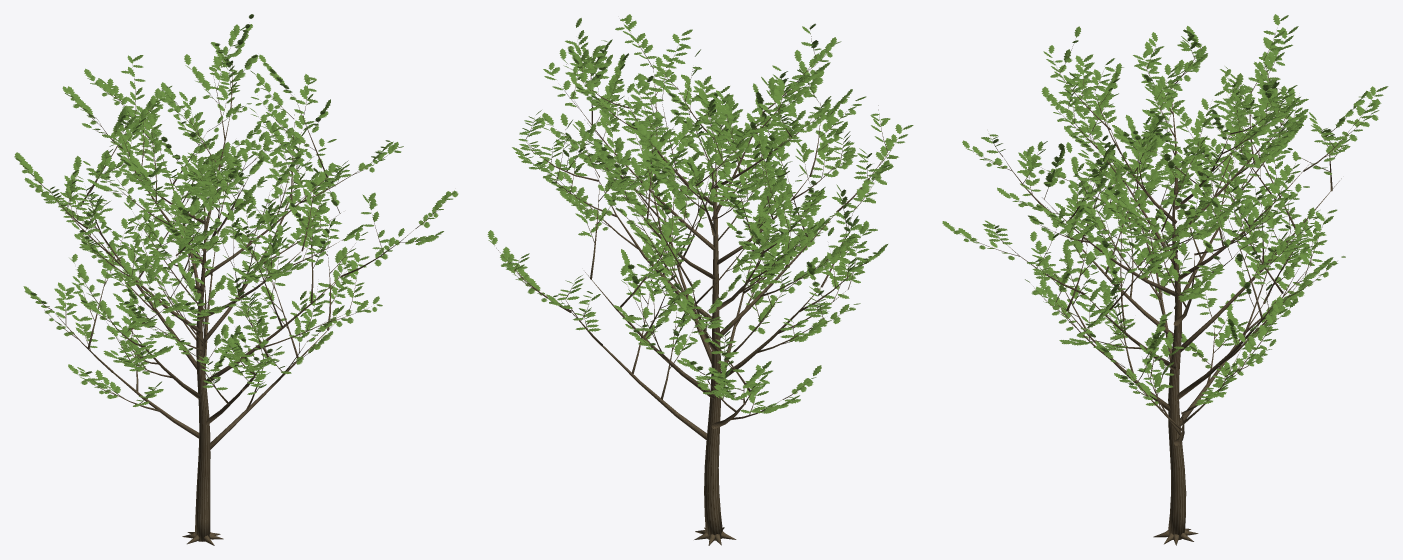
File: Sessile_Oak_Mature_02_Unpruned_LOD1.fbx
3 renders of one model, left to right at view 1: azimuth 30°, elevation 25°; view 2: azimuth 150°, elevation 25°; view 3: azimuth 270°, elevation 25°, orthographic. The views are drawn at different scales.
Parts seen in each view (by area): view 1: Sessile_Oak_Mature_02_Unpruned_LOD1; view 2: Sessile_Oak_Mature_02_Unpruned_LOD1; view 3: Sessile_Oak_Mature_02_Unpruned_LOD1.
Part boxes in pixels (x1=…): Sessile_Oak_Mature_02_Unpruned_LOD1: x1=14, y1=14, x2=458, y2=545; Sessile_Oak_Mature_02_Unpruned_LOD1: x1=487, y1=14, x2=913, y2=545; Sessile_Oak_Mature_02_Unpruned_LOD1: x1=942, y1=14, x2=1388, y2=545.
Size of the model in its own units: 1592 by 2201 by 1710.
Materials: 2 (1 with a texture image).
